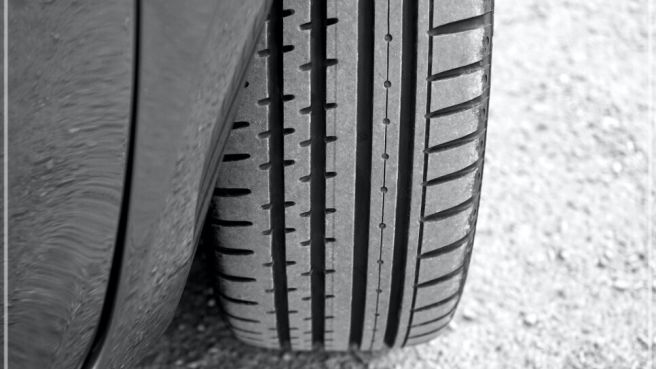new_condition: (221, 1, 502, 360)
